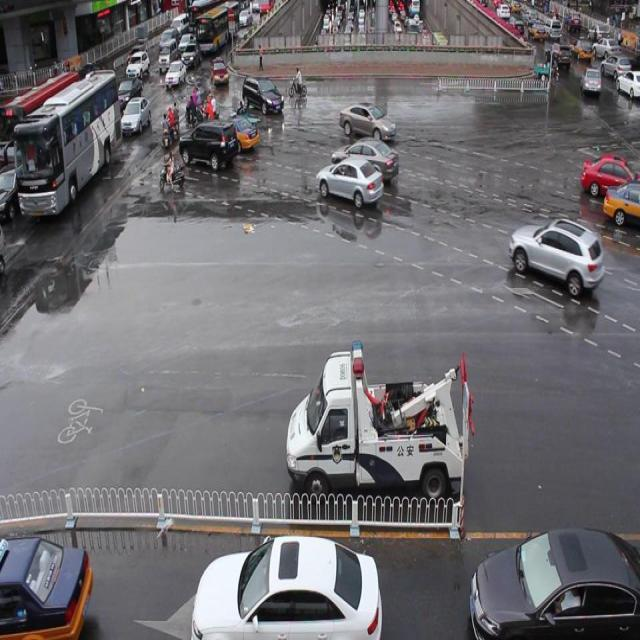BigCar: (14, 55, 119, 222)
car: (304, 333, 461, 508), (194, 559, 389, 640), (462, 544, 636, 628), (509, 223, 603, 319), (228, 58, 300, 133), (324, 147, 383, 228), (179, 111, 229, 192), (337, 101, 400, 153), (587, 146, 636, 211), (125, 82, 150, 150), (579, 64, 607, 109), (165, 52, 189, 83)
